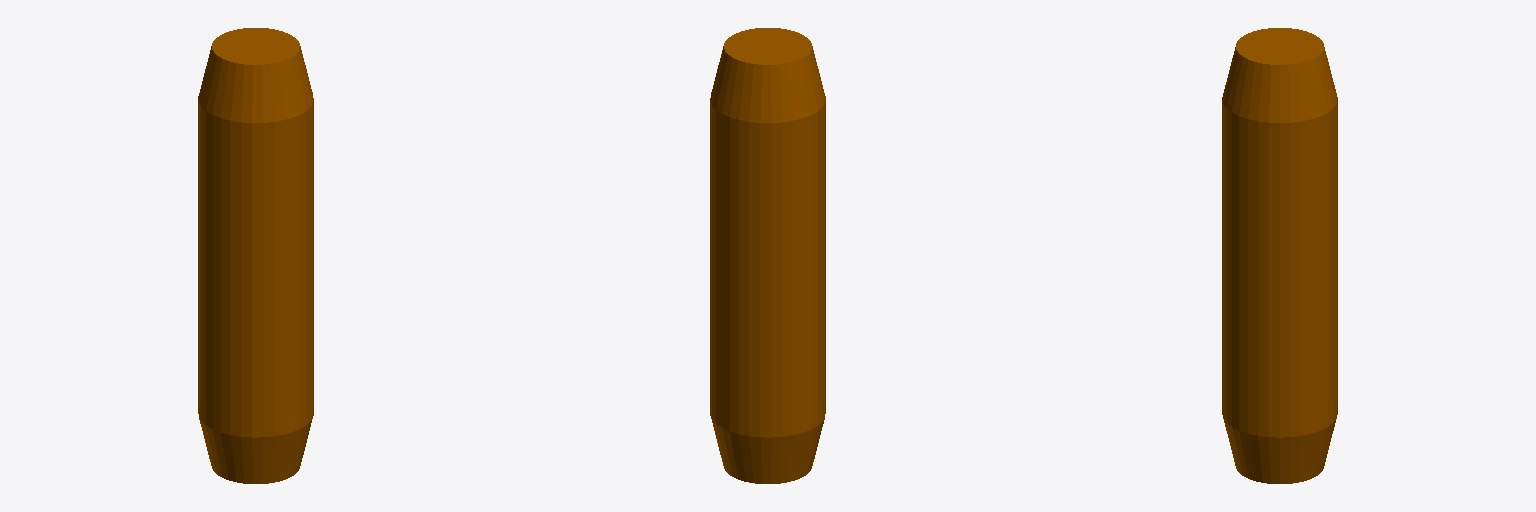
Rendered from deuvel.obj.
3 views of the same model, side by side, from view 1: azimuth 30°, elevation 25°; view 2: azimuth 150°, elevation 25°; view 3: azimuth 270°, elevation 25° (orthographic).
Parts seen in each view (by area): view 1: Cylinder; view 2: Cylinder; view 3: Cylinder.
Part boxes in pixels (bbox=[...]): Cylinder: bbox=[198, 28, 313, 483]; Cylinder: bbox=[710, 28, 825, 483]; Cylinder: bbox=[1222, 28, 1337, 483].
Size of the model in its own units: 2 by 8 by 2.